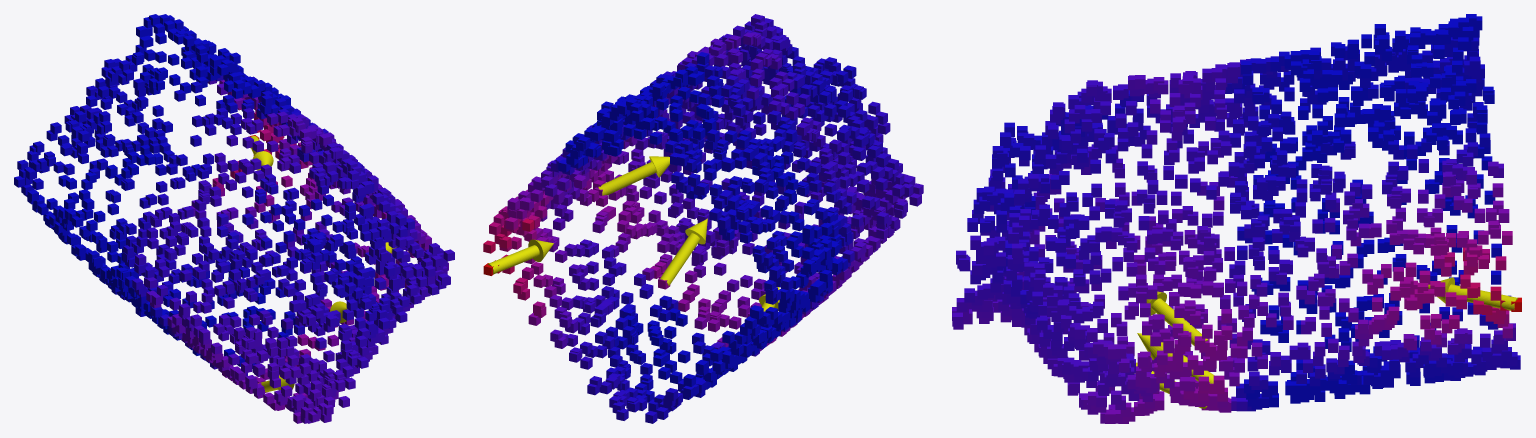
The model's file is heatmap_force.glb.
The picture shows the model from 3 angles, left to right: view 1: azimuth 30°, elevation 25°; view 2: azimuth 150°, elevation 25°; view 3: azimuth 270°, elevation 25°; orthographic projection. The views are drawn at different scales.
Visible parts, largest first — view 1: world; view 2: world; view 3: world.
Boxes of the visible parts, x1=… form: world: x1=14, y1=14, x2=454, y2=423; world: x1=483, y1=14, x2=923, y2=423; world: x1=952, y1=14, x2=1521, y2=423.
Bounding box in the file's own units: 0.1247 × 0.1236 × 0.1608.
